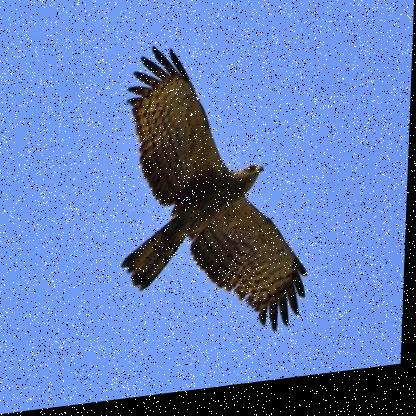Burung: (106, 30, 318, 353)
